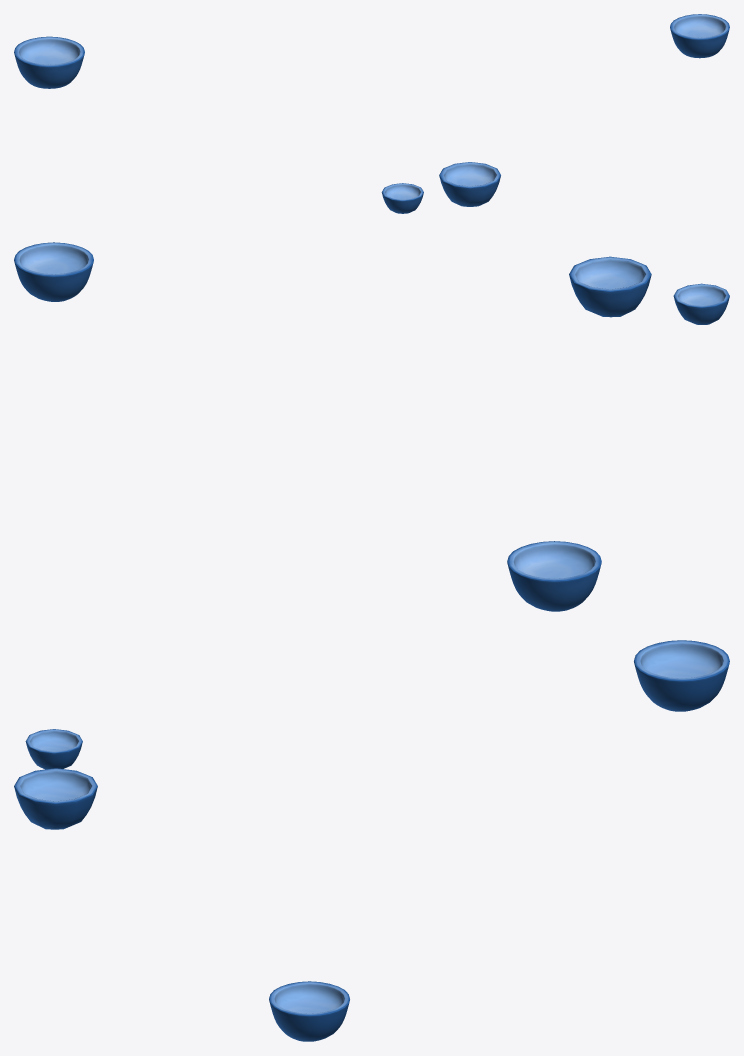
The model's file is Vacuolas.fbx.
The picture shows the model from 3 angles, top to bottom: view 1: azimuth 30°, elevation 25°; view 2: azimuth 150°, elevation 25°; view 3: azimuth 270°, elevation 25°; orthographic projection. The views are drawn at different scales.
Visible parts, largest first — view 1: pSphere80; view 2: pSphere80; view 3: pSphere80.
Boxes of the visible parts, <box> form: pSphere80: <box>14,14,729,213</box>; pSphere80: <box>14,242,729,611</box>; pSphere80: <box>14,640,729,1041</box>.
Size of the model in its own units: 18.32 by 1.03 by 14.73.
Materials: 1 (1 with a texture image).
